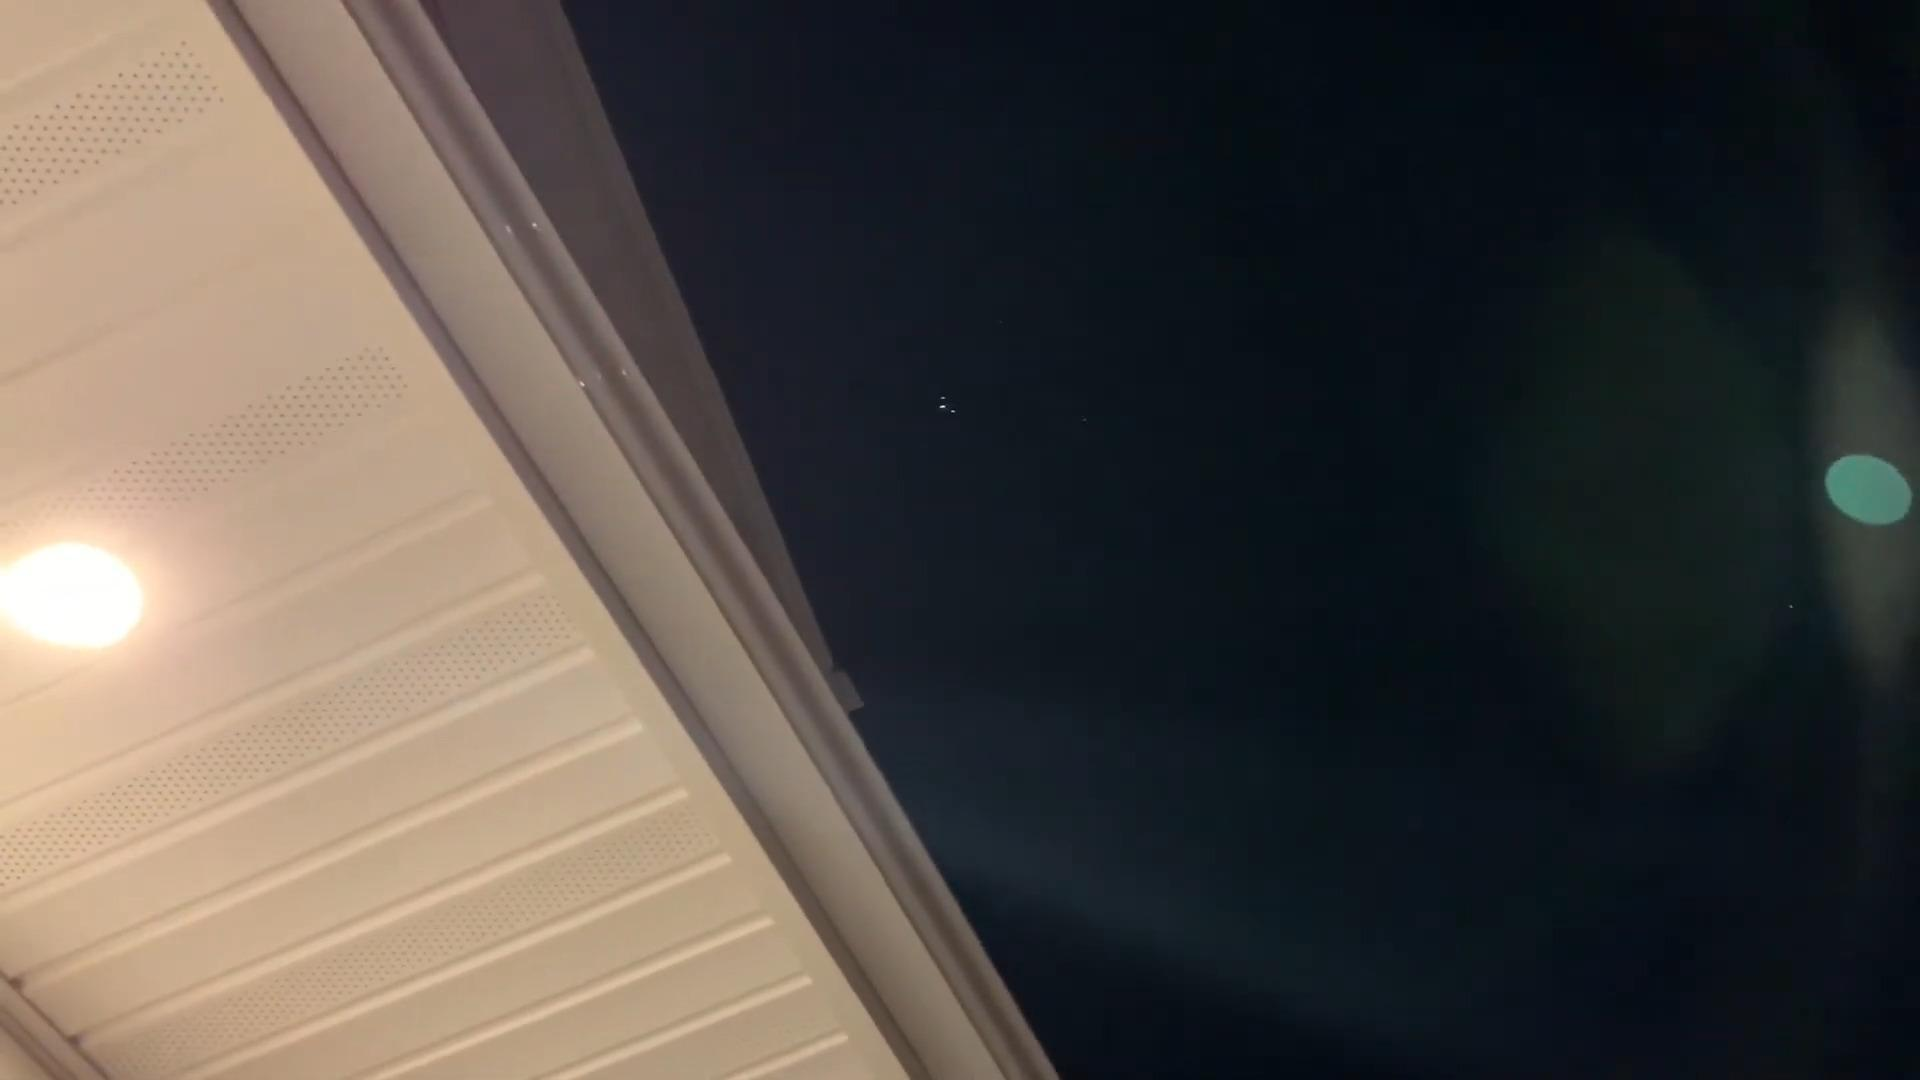Plane: (931, 382, 968, 439)
